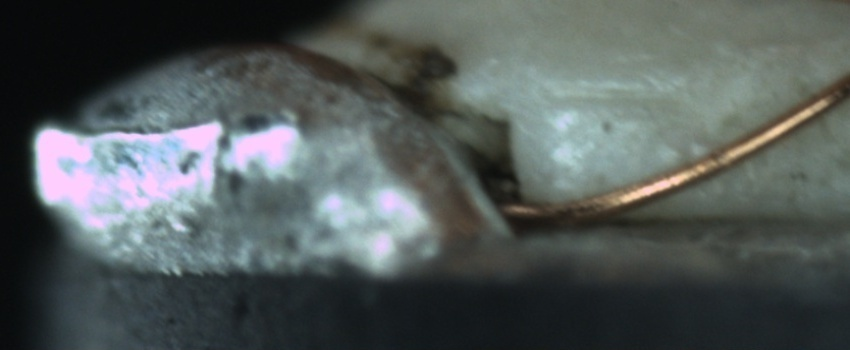DL: (543, 67, 677, 136)
